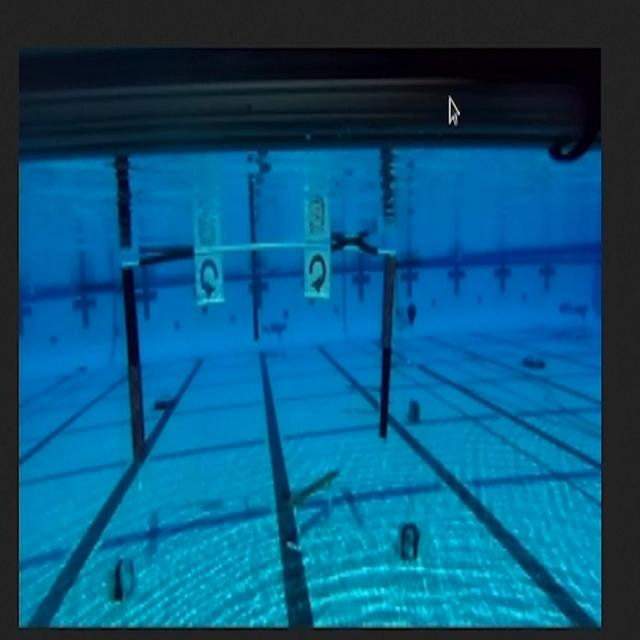Gate: (115, 241, 400, 477)
